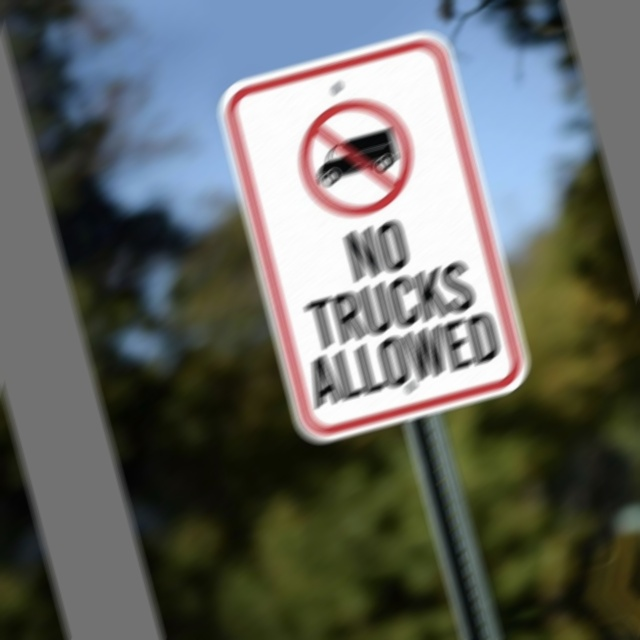Truck_Prohibited: (265, 65, 462, 240)
